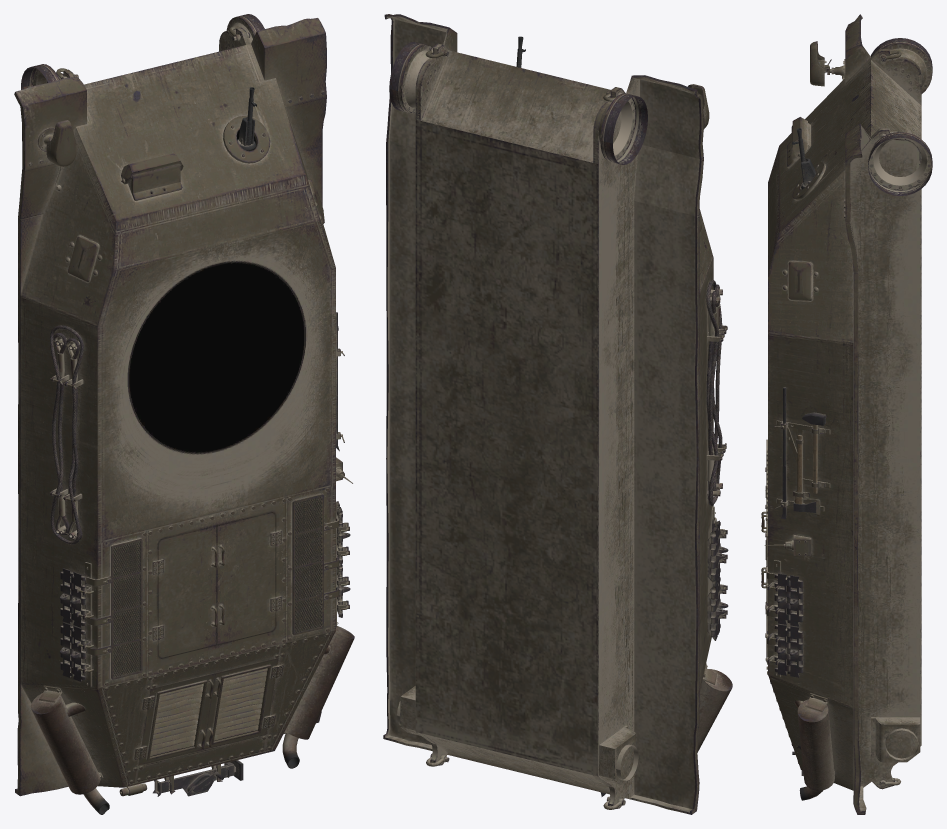
File: Hull.glb
3 views of the same model, side by side, from view 1: azimuth 30°, elevation 25°; view 2: azimuth 150°, elevation 25°; view 3: azimuth 270°, elevation 25° (orthographic). The views are drawn at different scales.
Parts seen in each view (by area): view 1: set_0_group_0; view 2: set_0_group_0; view 3: set_0_group_0.
Boxes of the visible parts, x1,y1,x2,y2 form: set_0_group_0: [14, 14, 354, 814]; set_0_group_0: [383, 14, 732, 814]; set_0_group_0: [761, 14, 932, 814].
Size of the model in its own units: 2.91 by 6.29 by 1.43.
1 material, 1 textured.
